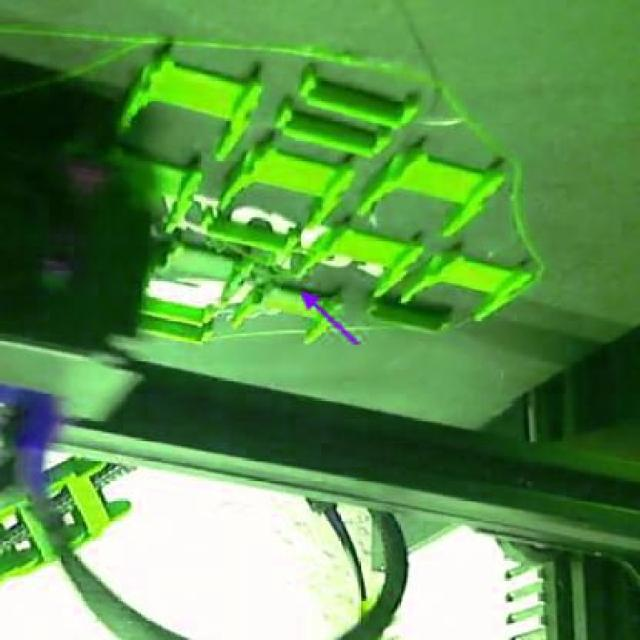Spaghetti: (202, 237, 290, 295)
